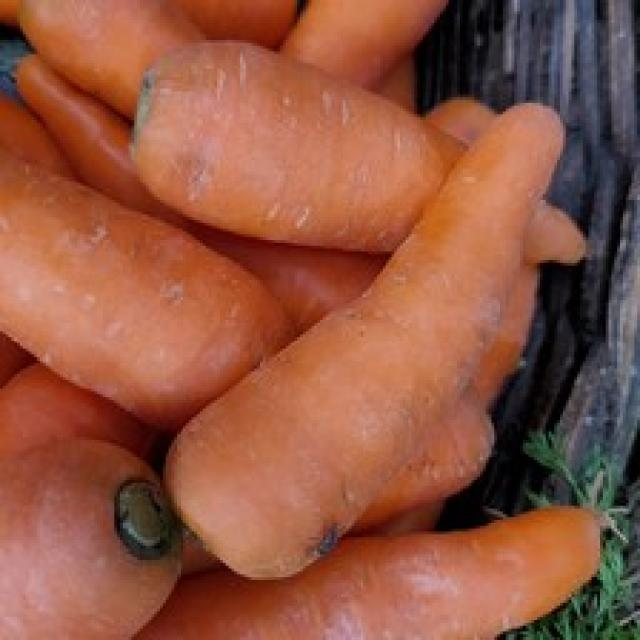Fresh_Carrot: (123, 8, 640, 308)
